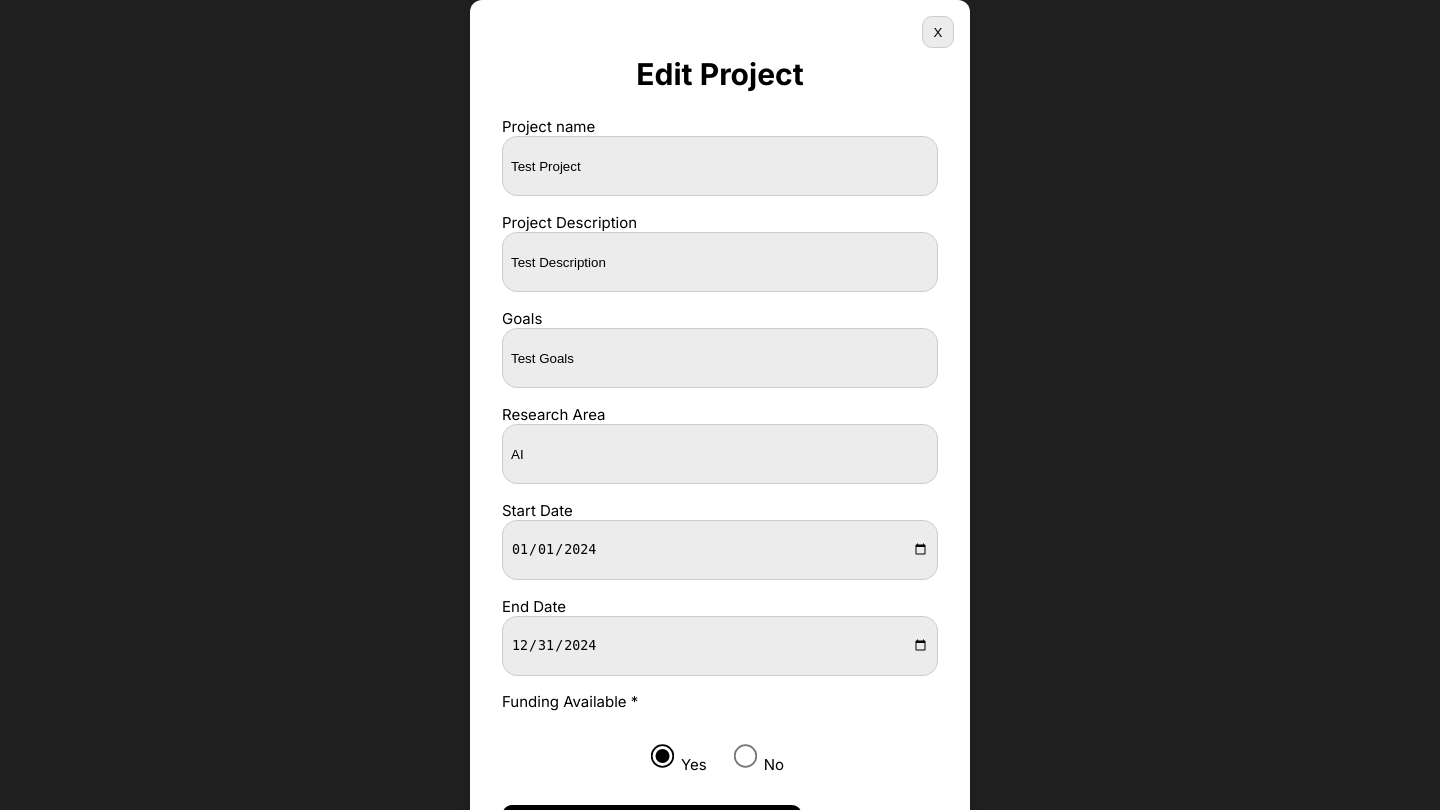
Test: EditProjectForm › sanitizes input values before submission
Replace the text in the field labelled "Project name" with "  Project Name  " at [720, 166], box [502,136,938,196]
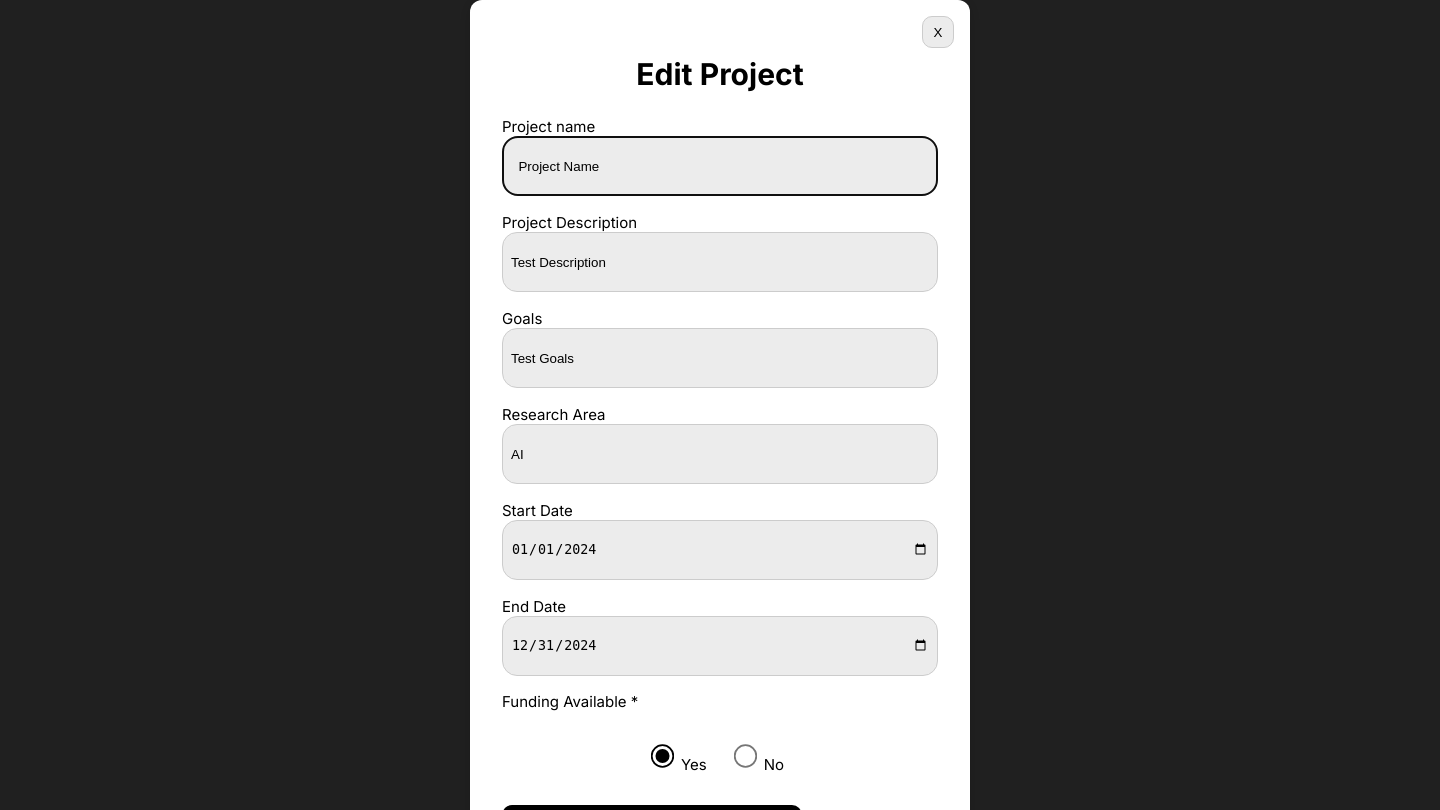
Replace the text in the field labelled "Project Description" with "  Description  " at [720, 262], box [502,232,938,292]
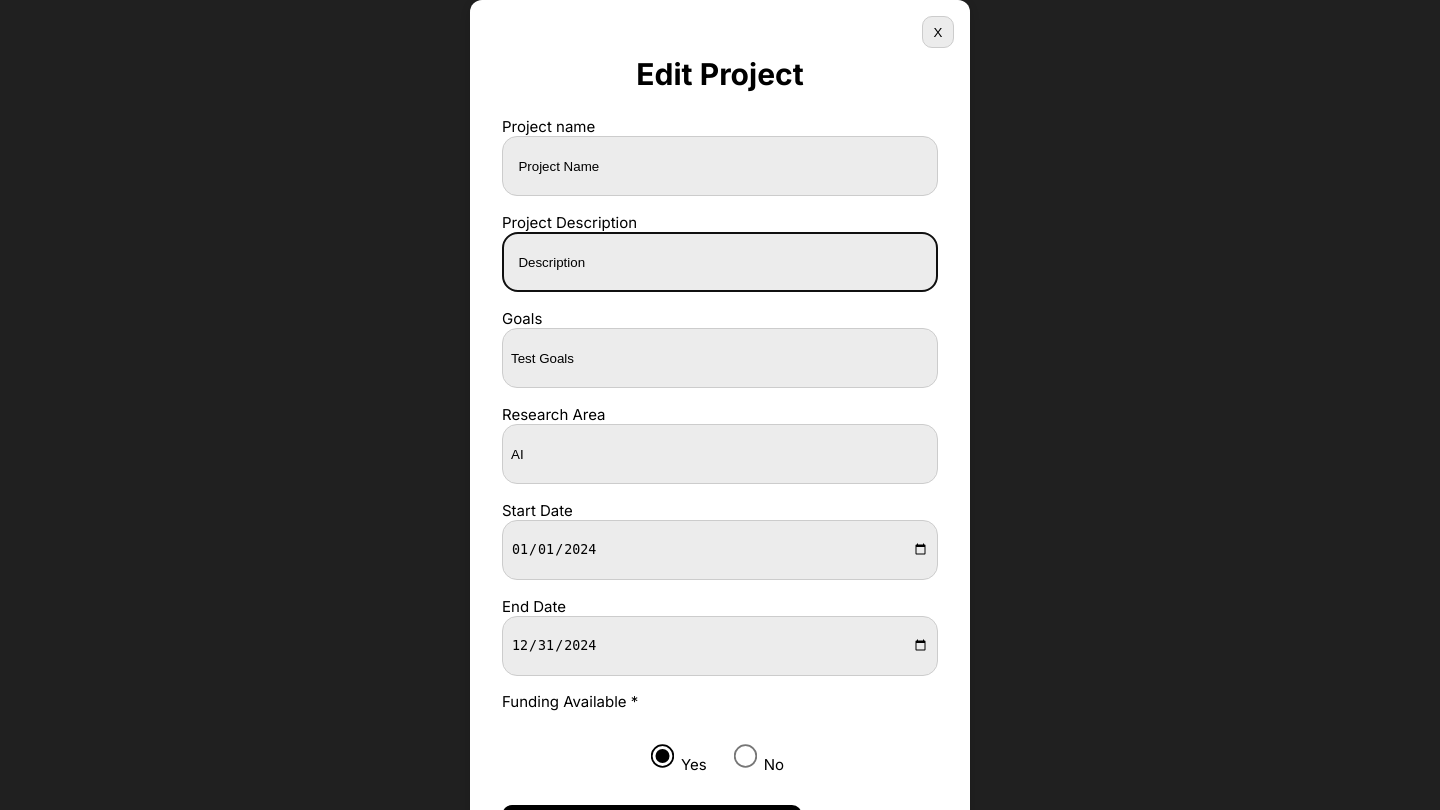
Replace the text in the field labelled "Goals" with "  Goals  " at [720, 358], box [502,328,938,388]
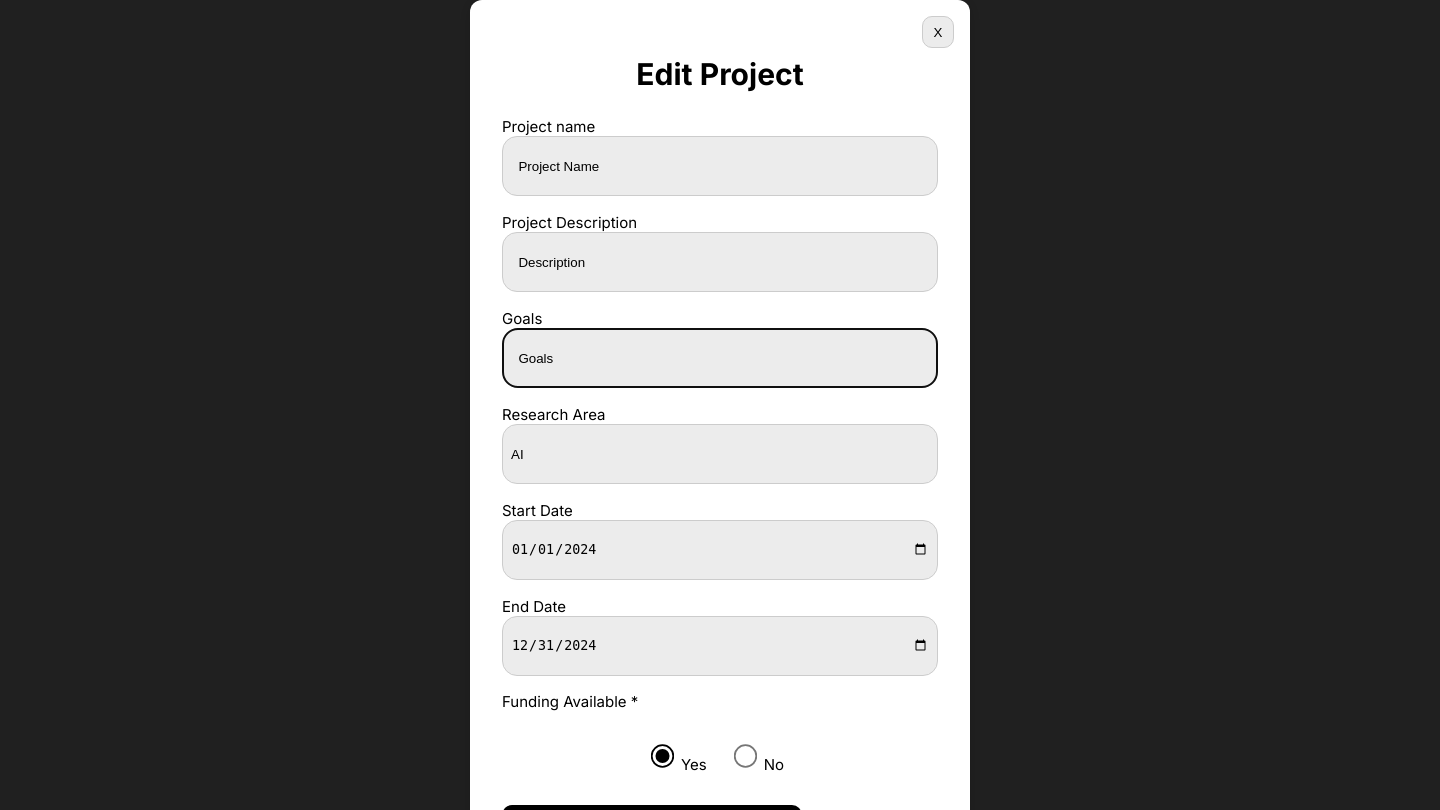
Replace the text in the field labelled "Research Area" with "  Research  " at [720, 454], box [502,424,938,484]
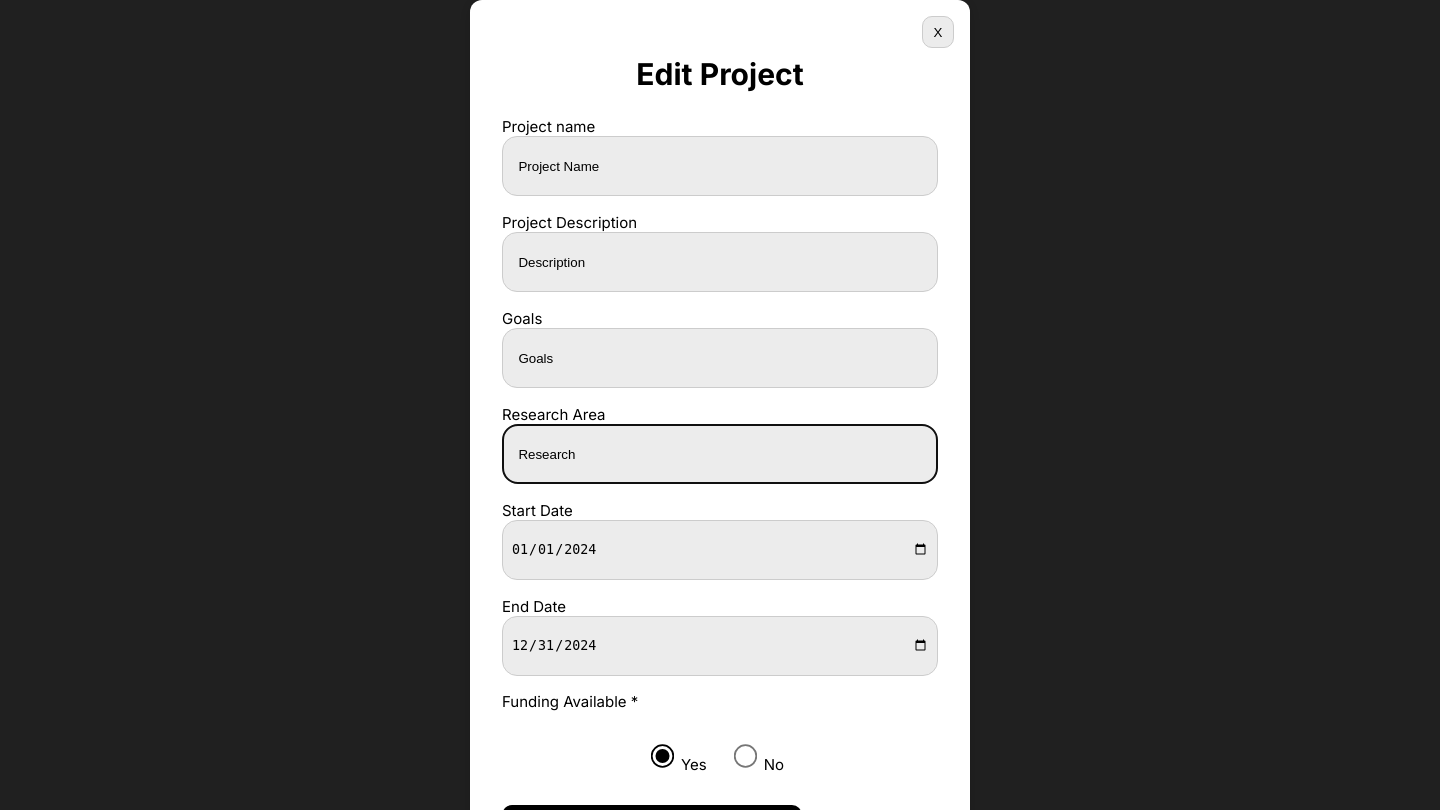
Submit the form
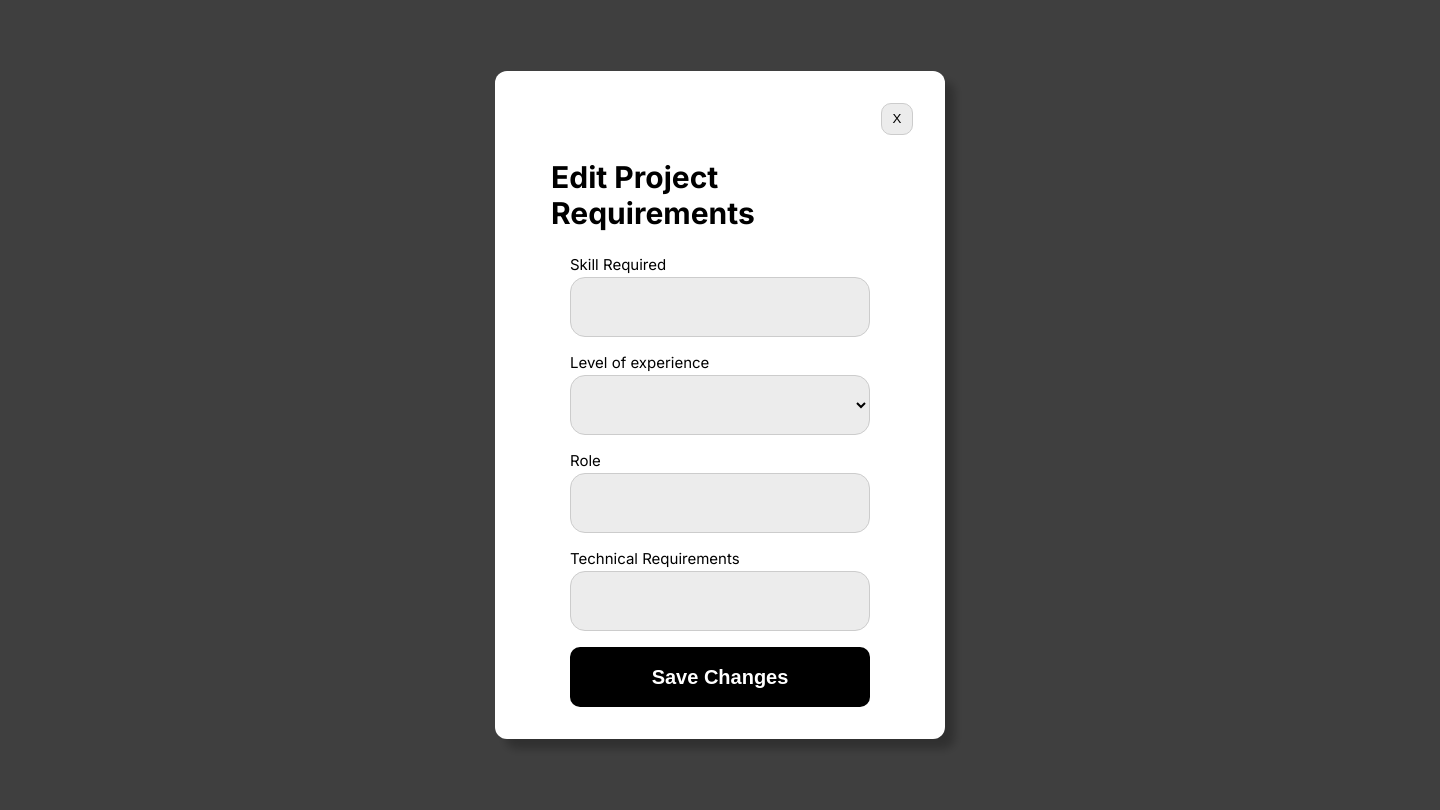
Check: the field labelled "Skill Required" is shown, box [570,277,870,337]
